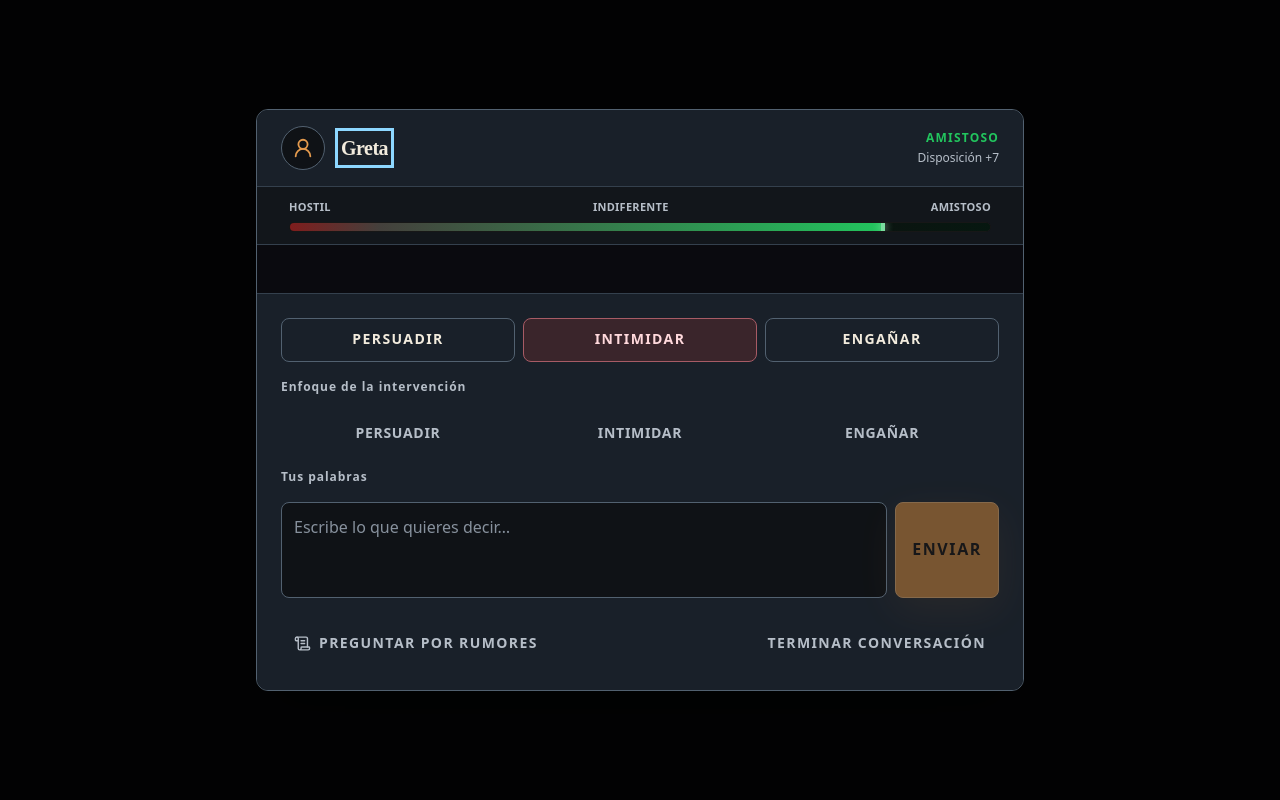
DialogueOverlayController — rumours › asks the rumours route and lists what comes back
Click the button "Preguntar por rumores". click: (416, 644)
box: [281,622,551,666]
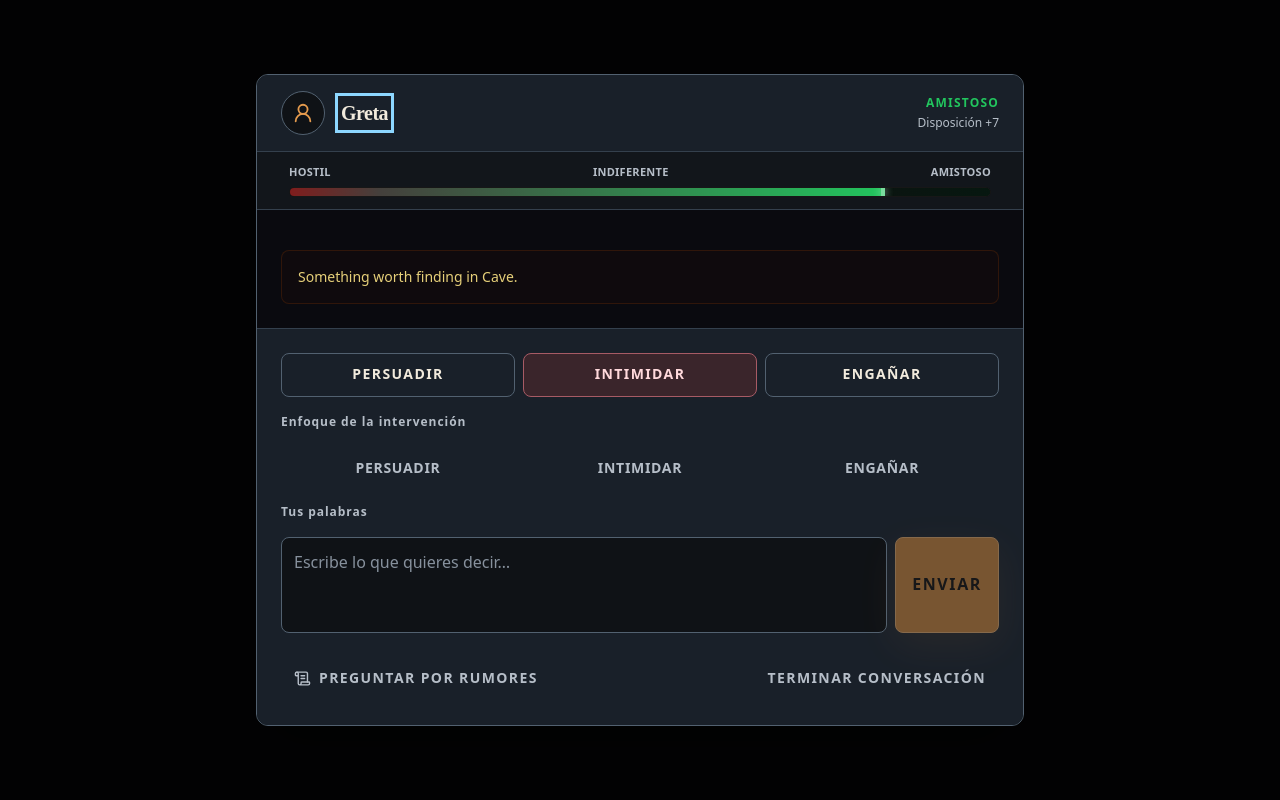
Now the list item "Something worth finding in Cave." is shown, box [298,267,518,286]
